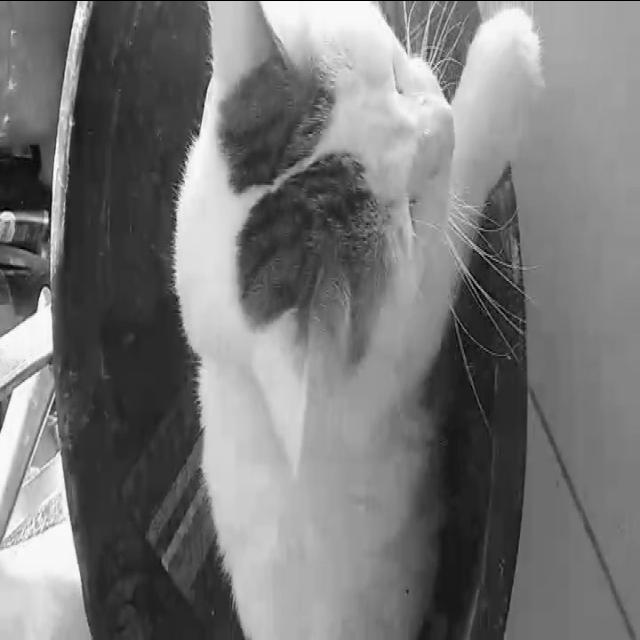Simba: (171, 1, 568, 640)
